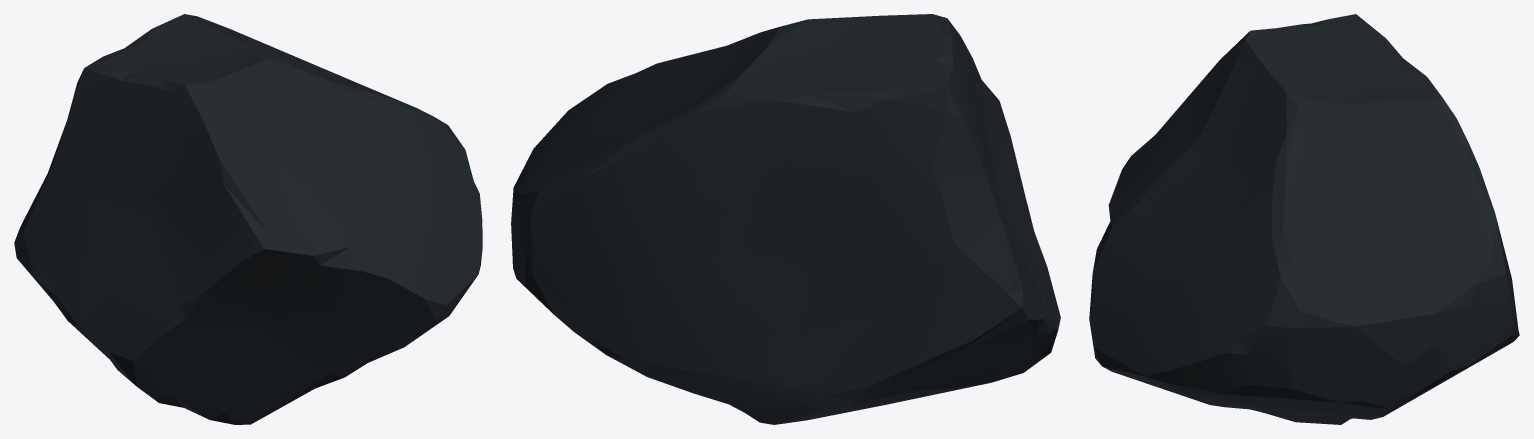
The model's file is Asteroid_m_19.FBX.
The picture shows the model from 3 angles, left to right: view 1: azimuth 30°, elevation 25°; view 2: azimuth 150°, elevation 25°; view 3: azimuth 270°, elevation 25°; orthographic projection. The views are drawn at different scales.
Visible parts, largest first — view 1: Asteroid_m_19; view 2: Asteroid_m_19; view 3: Asteroid_m_19.
Part boxes in pixels (x1,y1,x2,y2): Asteroid_m_19: (14,14,482,424); Asteroid_m_19: (511,14,1060,424); Asteroid_m_19: (1089,14,1519,424).
Size of the model in its own units: 911 by 705 by 790.
